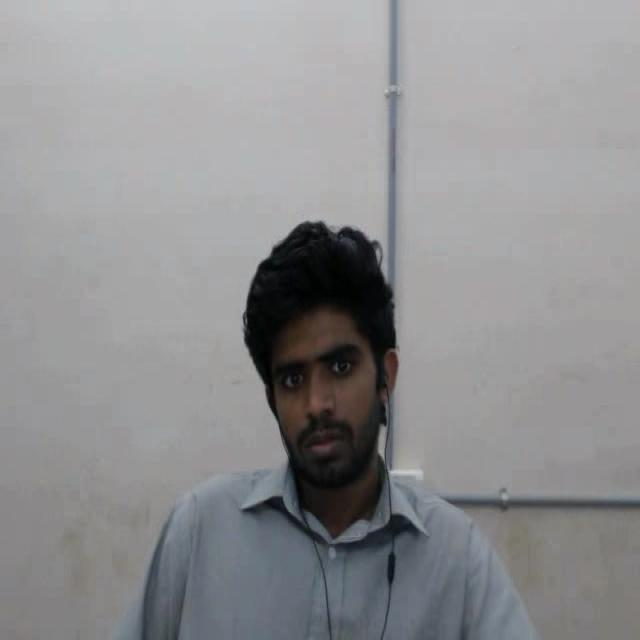Engaged: (224, 204, 428, 526)
